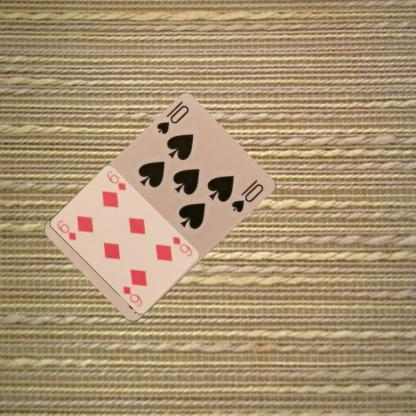10s: (154, 102, 190, 136)
6d: (54, 217, 78, 242), (170, 234, 193, 258)
